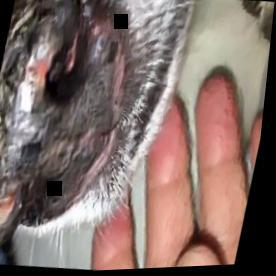keratosis: (0, 0, 142, 261)
